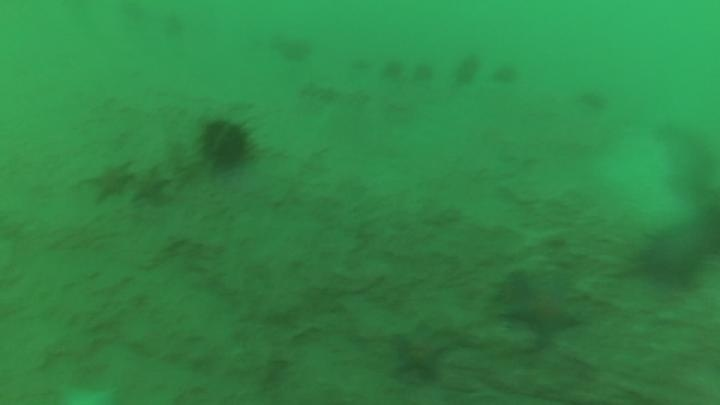echinus: (636, 223, 706, 290), (200, 117, 259, 175), (275, 33, 315, 65), (576, 86, 611, 114), (490, 58, 521, 88), (410, 60, 437, 86), (379, 57, 406, 82), (459, 65, 478, 83), (462, 55, 480, 72)
holothurian: (297, 79, 340, 105)
starfish: (497, 271, 584, 344), (390, 323, 451, 381), (81, 159, 137, 206), (127, 162, 174, 208), (56, 379, 119, 404)
